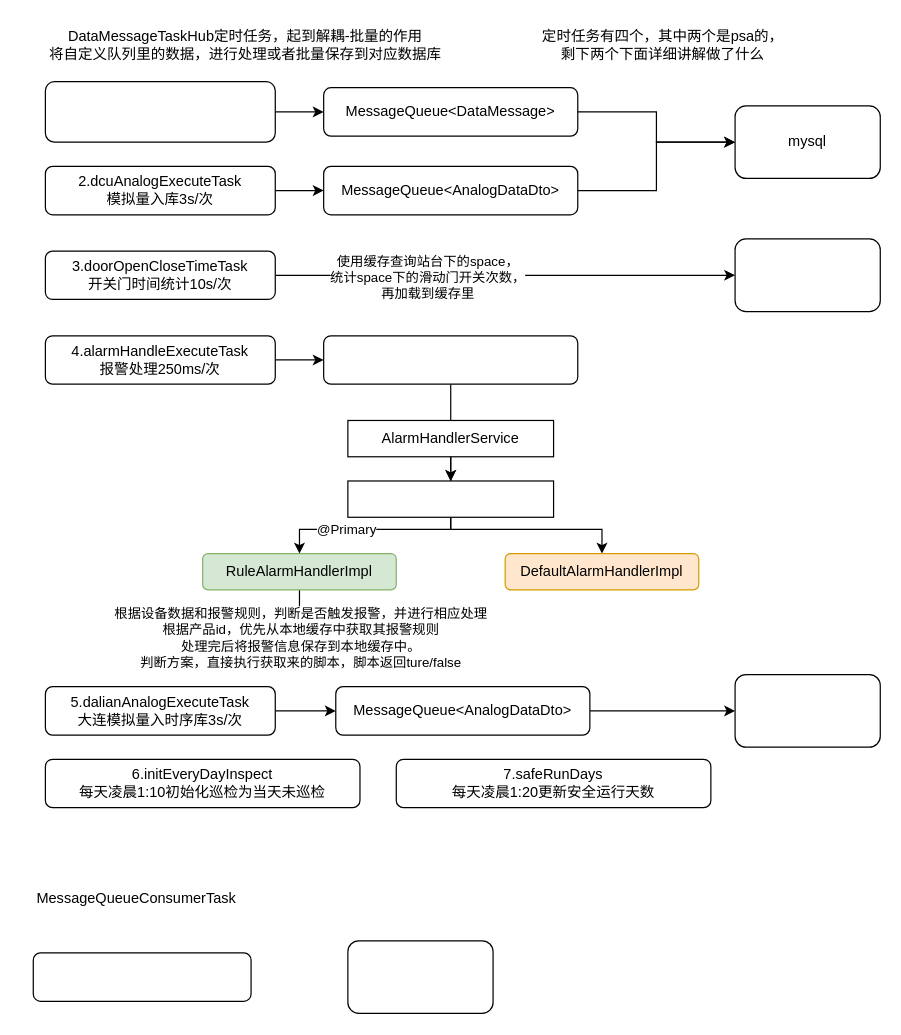
This 901x1035 diagram has some shape labels left out. The centre of each missing label's shape, as x and y in pixels:
"1.doorOpenCloseExecuteTask 开关门属性入库10s/次" goes at pixel 159 111.
"AbstractAlarmHelper" goes at pixel 450 498.
"influxdb" goes at pixel 807 710.
"MessageQueue<AlarmHandleDto>" goes at pixel 450 359.
"realtimeDataExecuteTask 发送报警通知" goes at pixel 141 976.
"redis" goes at pixel 807 275.
